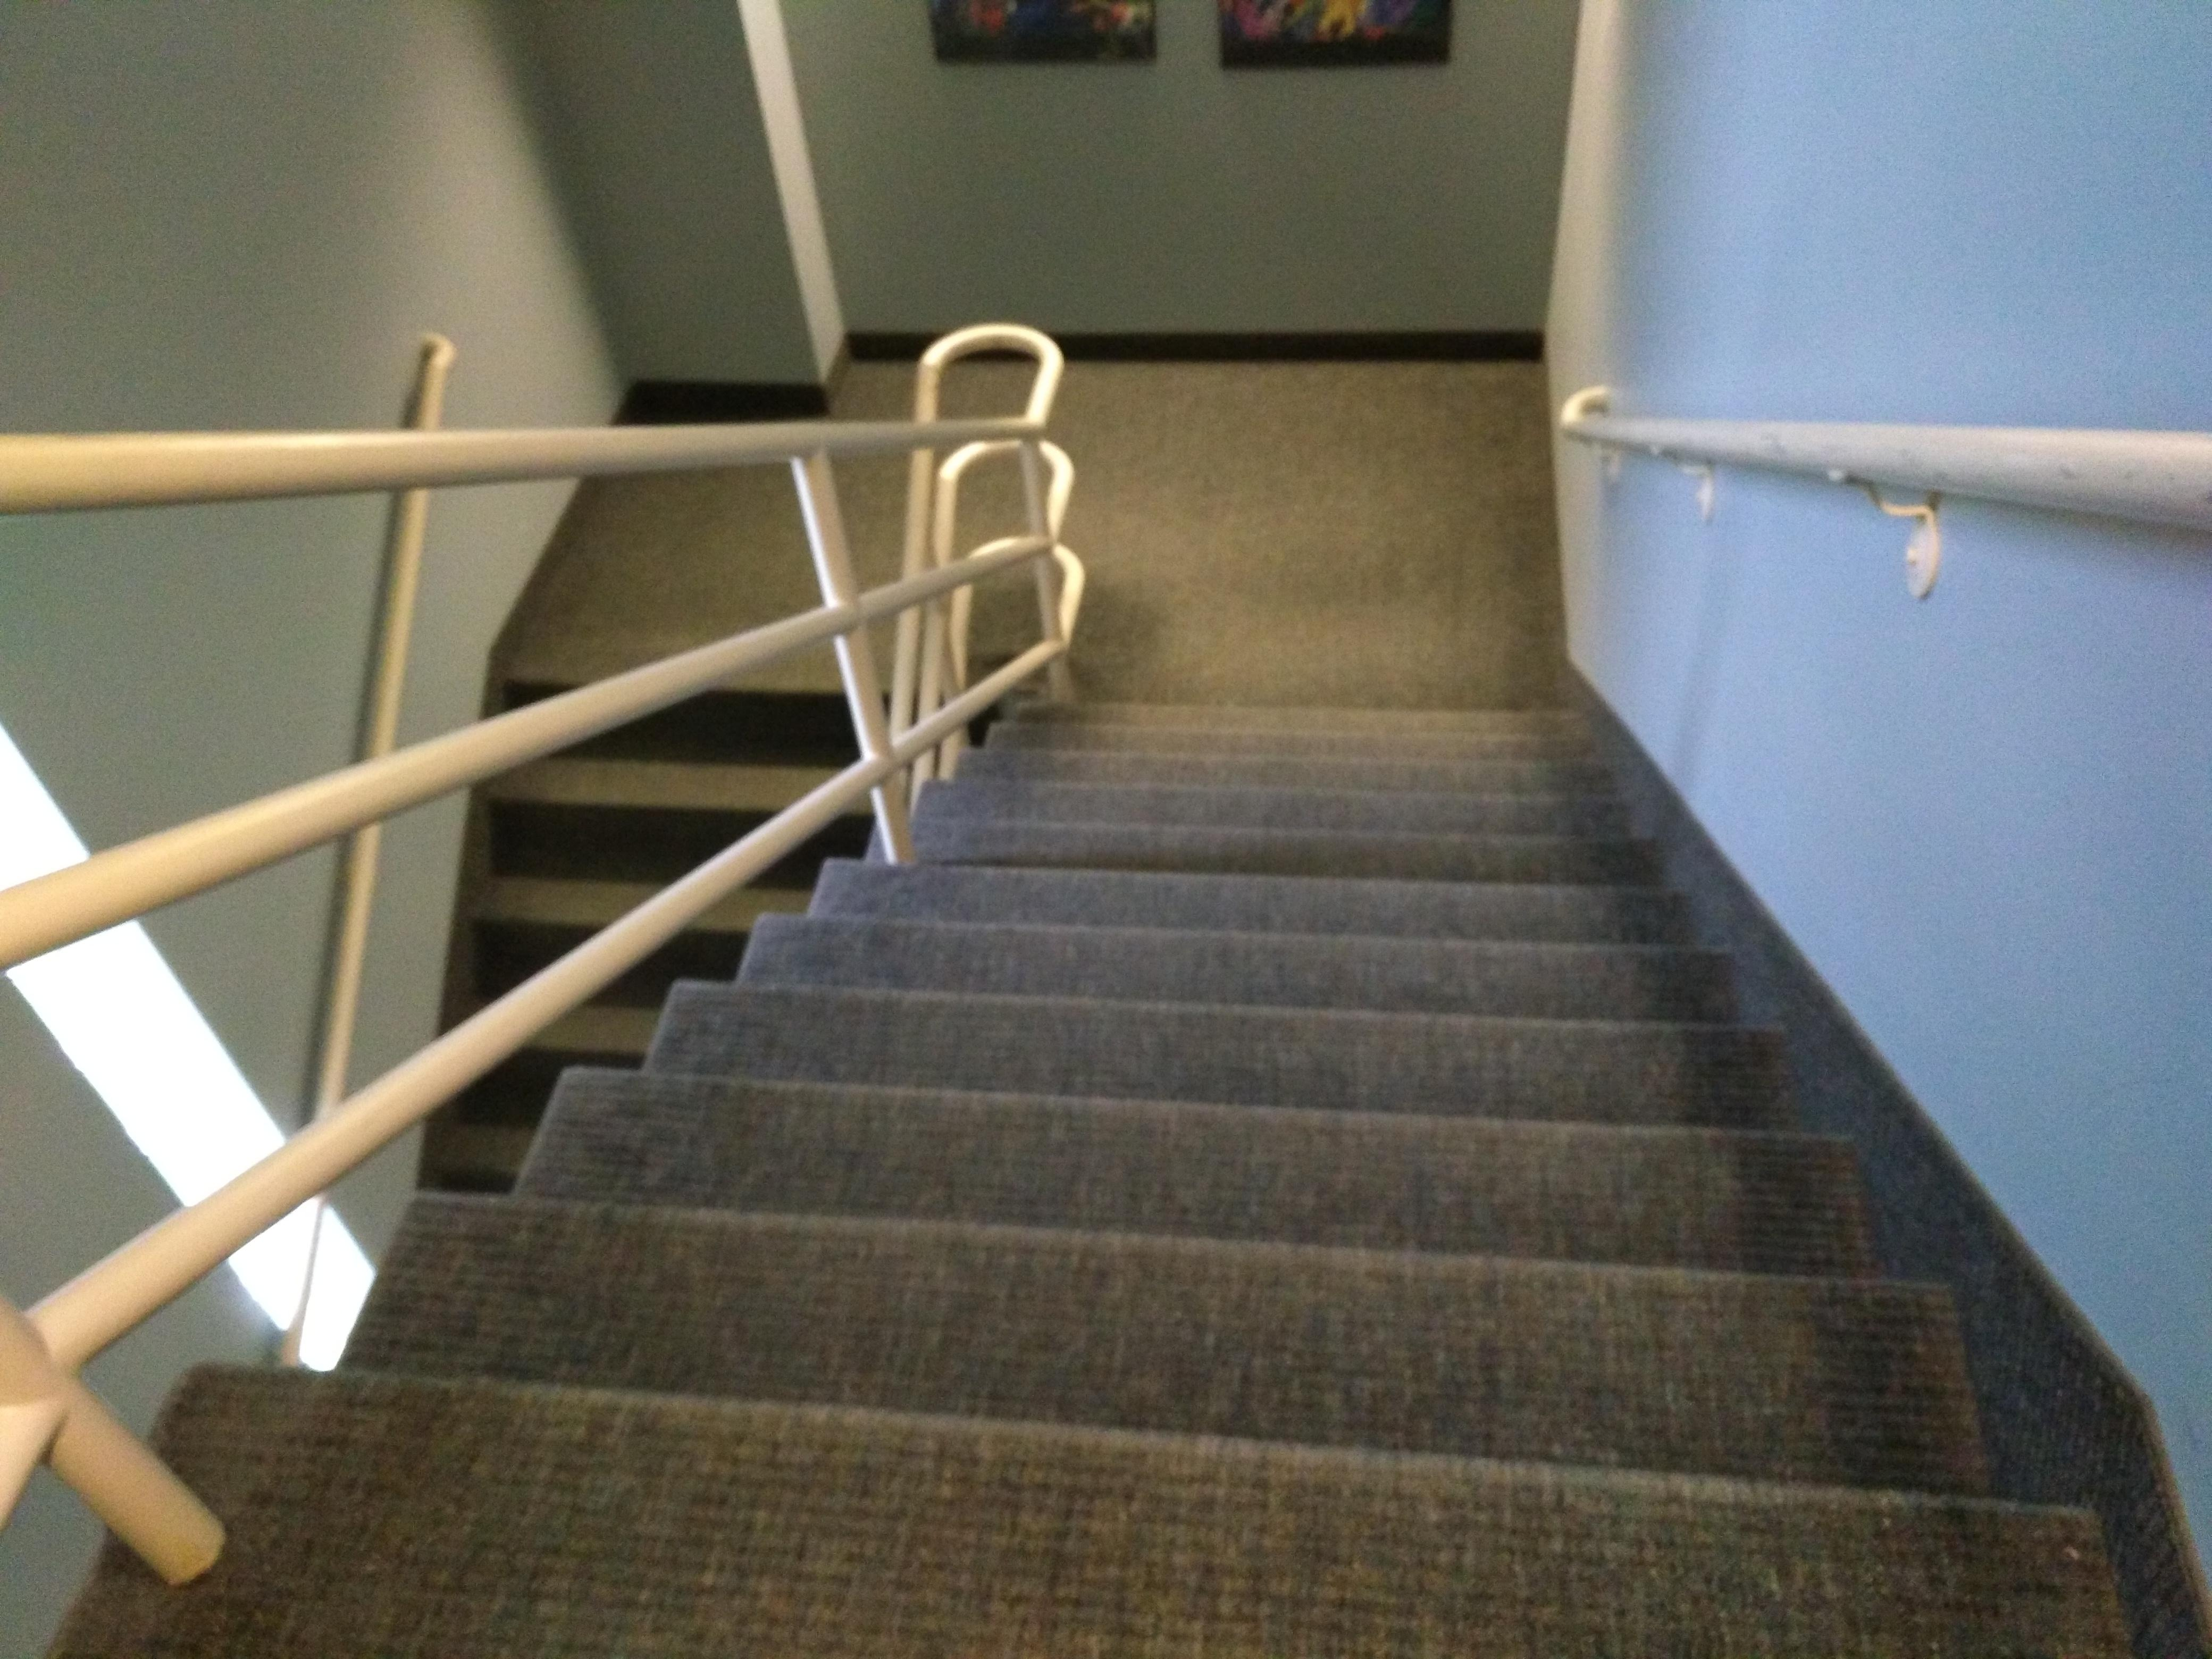stairs_down: (326, 671, 2102, 1493)
